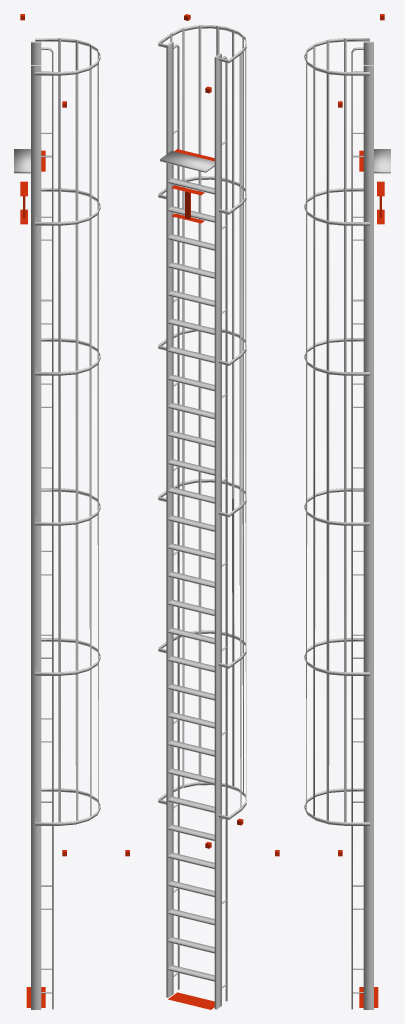
Rendered from ladder_9m.dae.
3 views of the same model, side by side, from view 1: azimuth 90°, elevation 25°; view 2: azimuth 150°, elevation 25°; view 3: azimuth 270°, elevation 25° (orthographic).
Visible parts, largest first — view 1: ladder_6m; view 2: ladder_6m, BOTTOM_END, RUNG_DISTANCE; view 3: ladder_6m.
Boxes of the visible parts, x1,y1,x2,y2 form: ladder_6m: (14, 38, 100, 1009); ladder_6m: (158, 25, 246, 1009); BOTTOM_END: (168, 992, 214, 1009); RUNG_DISTANCE: (171, 185, 204, 223); ladder_6m: (304, 38, 390, 1009).
Bounding box in the file's own units: 0.7935 × 1.13 × 10.58.
